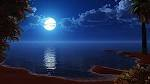moon: (42, 17, 57, 31)
